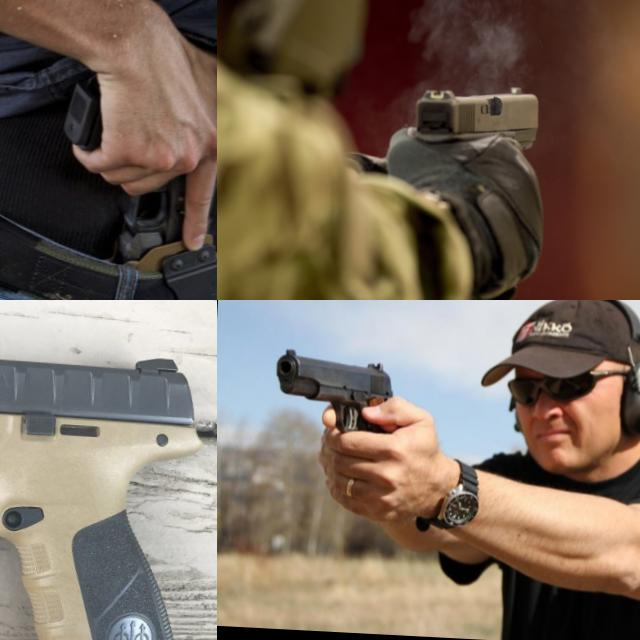handgun: (0, 327, 217, 640), (46, 69, 217, 281), (271, 345, 398, 462), (406, 78, 546, 180)
